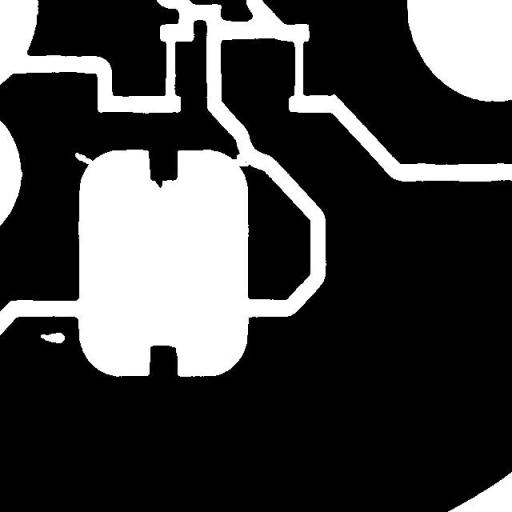mousebite: (67, 145, 102, 173)
open: (224, 146, 258, 174)
pin-hole: (33, 325, 72, 350)
spur: (146, 169, 170, 195)
